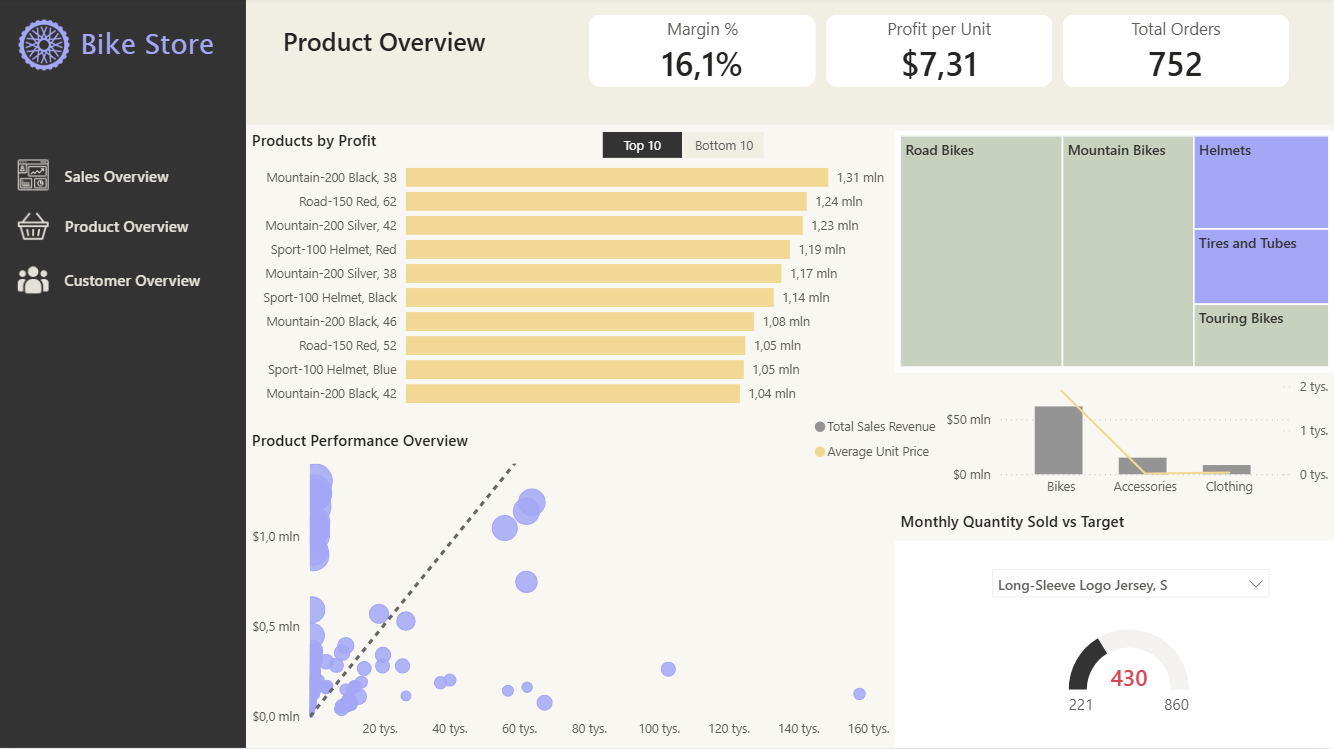

This screenshot's page, from the dashboard's own definition file:
{"tool":"powerbi","page":{"name":"Product Overview","canvas":[1280,720],"ordinal":2},"visuals":[{"type":"shape","box":[0,0,236.9,720],"z":0},{"type":"textbox","box":[72.6,20.2,153.6,65.5],"z":1000},{"type":"image","box":[17.9,21.4,51.2,48.8],"z":2000},{"type":"image","box":[17.9,156,29.8,29.8],"z":3000},{"type":"image","box":[17.9,204.8,29.8,29.8],"z":4000},{"type":"image","box":[17.9,256,29.8,29.8],"z":5000},{"type":"actionButton","box":[48.8,154.8,127.4,34.5],"z":6000},{"type":"actionButton","box":[58.3,202.4,127.4,34.5],"z":7000},{"type":"actionButton","box":[56,253.6,142.9,34.5],"z":8000},{"type":"shape","box":[237.3,6,1042.7,122.2],"z":9000},{"type":"cardVisual","fields":{"Data":["_Measures.Average Margin %","_Measures.Profit per Unit","_Measures.Total Orders"]},"box":[539,9,705.9,103.1],"z":10000},{"type":"barChart","title":"Products by Profit","fields":{"Category":["FactSales.Product"],"Y":["Sum(FactSales.Profit)"]},"box":[237.5,106.7,621.5,297.2],"z":11000},{"type":"slicer","fields":{"Values":["View Type2.Type"]},"box":[552.4,122.6,204.8,39.3],"z":12000},{"type":"textbox","box":[266.9,21.6,223.6,46.2],"z":13000},{"type":"treemap","fields":{"Group":["FactSales.Sub_Category"],"Values":["Sum(FactSales.Profit)"]},"box":[859,128,421,231.8],"z":14000},{"type":"scatterChart","title":"Product Performance Overview","fields":{"Category":["FactSales.Product"],"Size":["_Measures.Total Sales Revenue"],"X":["_Measures.Total Quantity Sold"],"Y":["_Measures.Profit"]},"box":[237.3,414.7,622,305.6],"z":15000},{"type":"shape","box":[859.3,521.3,420.7,199],"z":22000},{"type":"slicer","fields":{"Values":["FactSales.Product"]},"box":[941.7,538.1,285.7,46.4],"z":23000},{"type":"gauge","fields":{"MinValue":["_Measures.Total Quantity Sold"],"Y":["_Measures.Quantity Sold Target"]},"box":[1004.8,601.2,158.3,97.6],"z":24000},{"type":"textbox","box":[859.3,487.8,420.7,33.6],"z":25000},{"type":"lineStackedColumnComboChart","fields":{"Category":["FactSales.Product_Category"],"Y":["_Measures.Total Sales Revenue"],"Y2":["_Measures.Average Unit Price"]},"box":[776.6,359.6,503.4,128.2],"z":28000}]}

Visuals, with their boxes on the page's 1280x720 design canvas (x1, y1, x2, y2). These are canvas units, not pixel positions in the 1334x749 screenshot, which may show the page scaled, cropped or inside an application window:
shape: 0:0:237:720
textbox: 73:20:226:86
image: 18:21:69:70
image: 18:156:48:186
image: 18:205:48:235
image: 18:256:48:286
actionButton: 49:155:176:189
actionButton: 58:202:186:237
actionButton: 56:254:199:288
shape: 237:6:1280:128
cardVisual - _Measures.Average Margin % x _Measures.Profit per Unit: 539:9:1245:112
"Products by Profit" barChart: 238:107:859:404
slicer - View Type2.Type: 552:123:757:162
textbox: 267:22:490:68
treemap - FactSales.Sub_Category x Sum(FactSales.Profit): 859:128:1280:360
"Product Performance Overview" scatterChart: 237:415:859:720
shape: 859:521:1280:720
slicer - FactSales.Product: 942:538:1227:584
gauge - _Measures.Total Quantity Sold x _Measures.Quantity Sold Target: 1005:601:1163:699
textbox: 859:488:1280:521
lineStackedColumnComboChart - FactSales.Product_Category x _Measures.Total Sales Revenue: 777:360:1280:488
